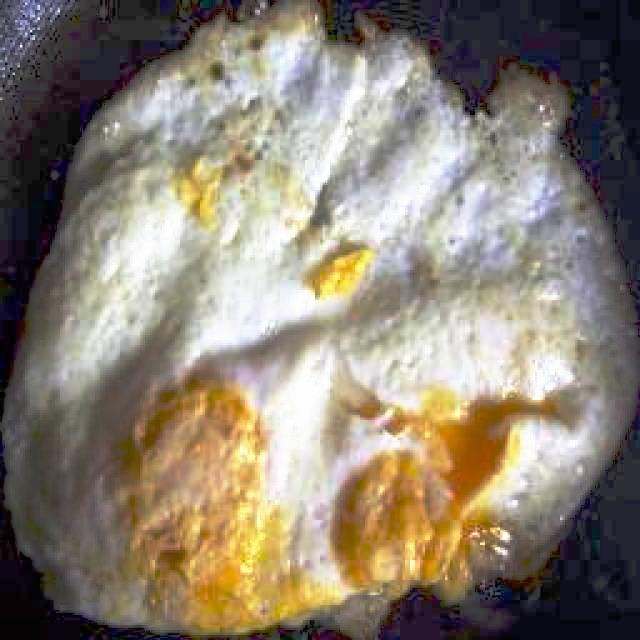fried_eggs: (10, 11, 627, 631)
